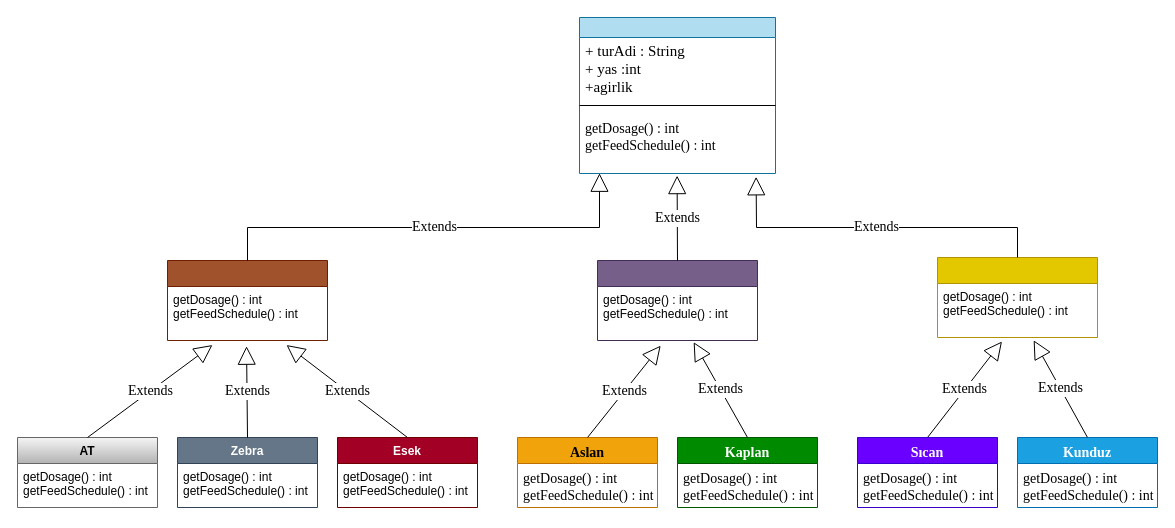
The diagram is 1175 pixels wide and 528 high, and some of its shapes have lost their labels. The shapes that lost their labels are listed below. From the top down, each one's box as (x1, y1, x2, y2) in pixels, then its label:
(578, 16, 776, 174): Animal
(166, 260, 328, 340): Atgiller
(596, 260, 758, 340): Kedigiller
(936, 256, 1098, 338): Kemirgenler
